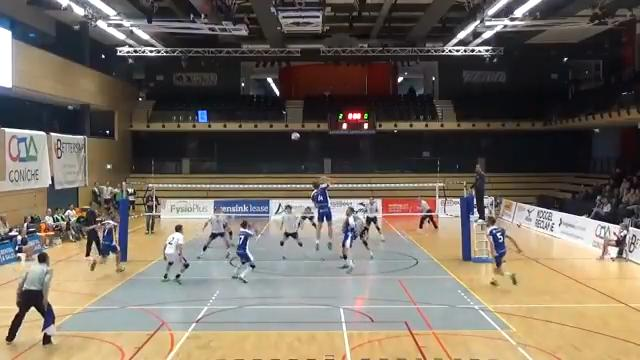attacco: (308, 171, 334, 257)
